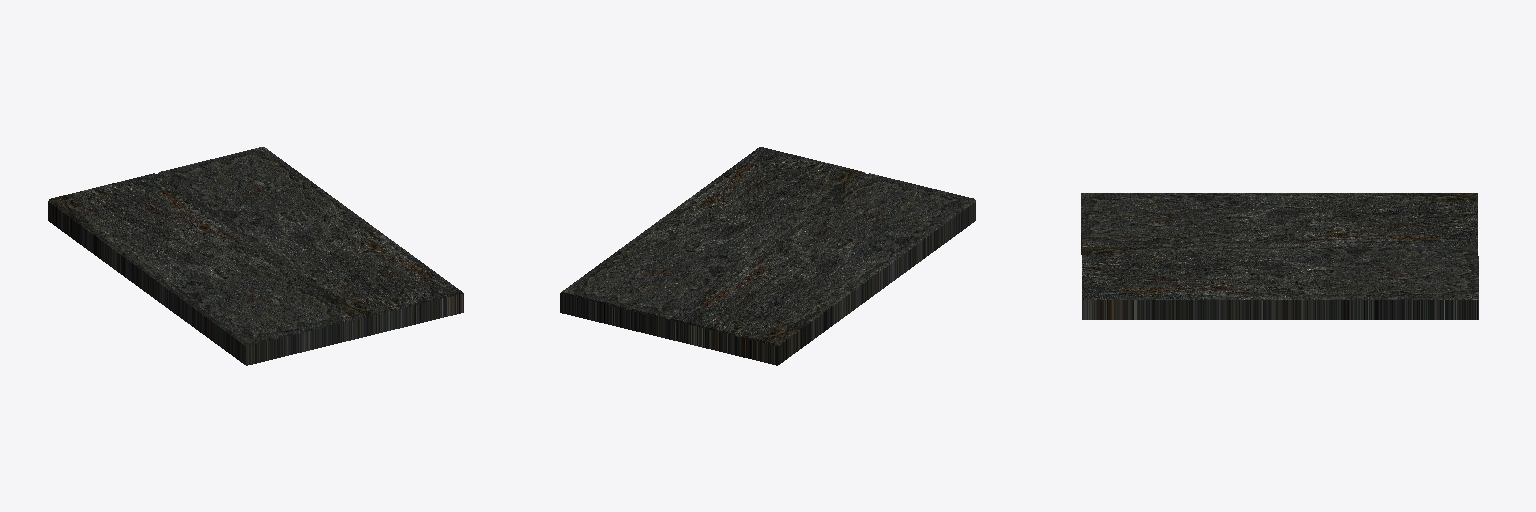
The picture shows the model from 3 angles: view 1: azimuth 30°, elevation 25°; view 2: azimuth 150°, elevation 25°; view 3: azimuth 270°, elevation 25°; orthographic projection.
Parts seen in each view (by area): view 1: mesh0; view 2: mesh0; view 3: mesh0.
Boxes of the visible parts, x1,y1,x2,y2 form: mesh0: [48, 147, 463, 365]; mesh0: [560, 147, 975, 365]; mesh0: [1081, 193, 1478, 319].
Bounding box in the file's own units: 5.86 × 0.5501 × 9.24.
Materials: 1 (1 with a texture image).